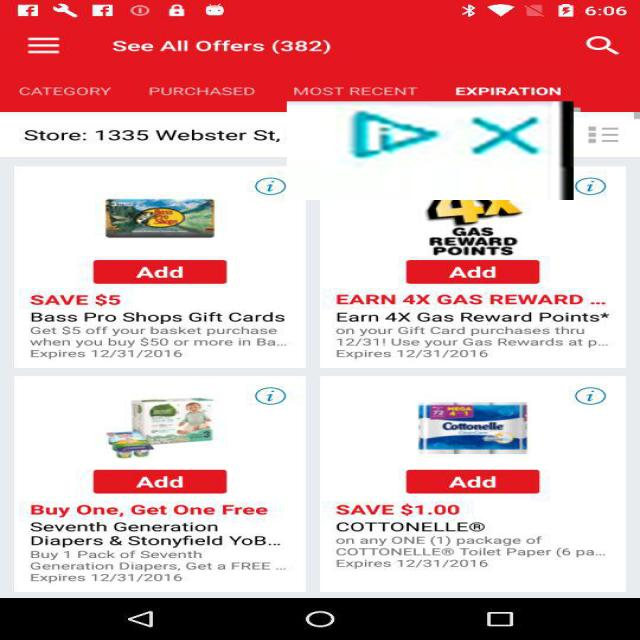sneaking: (286, 101, 574, 200)
